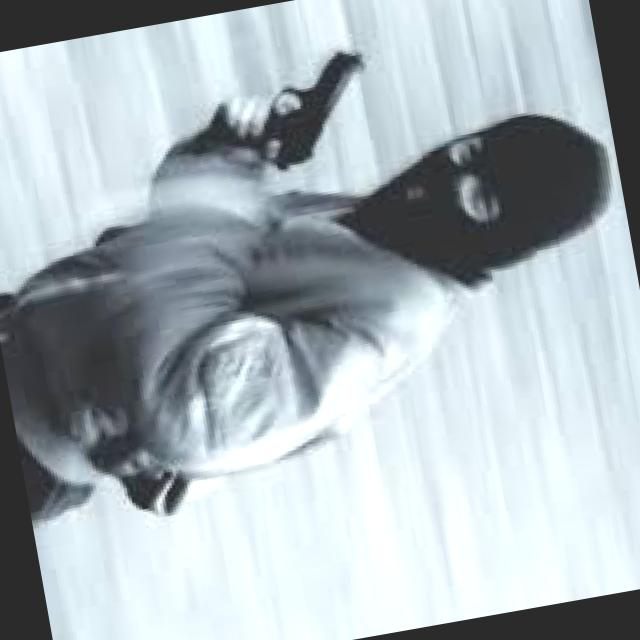handgun: (192, 41, 388, 179)
